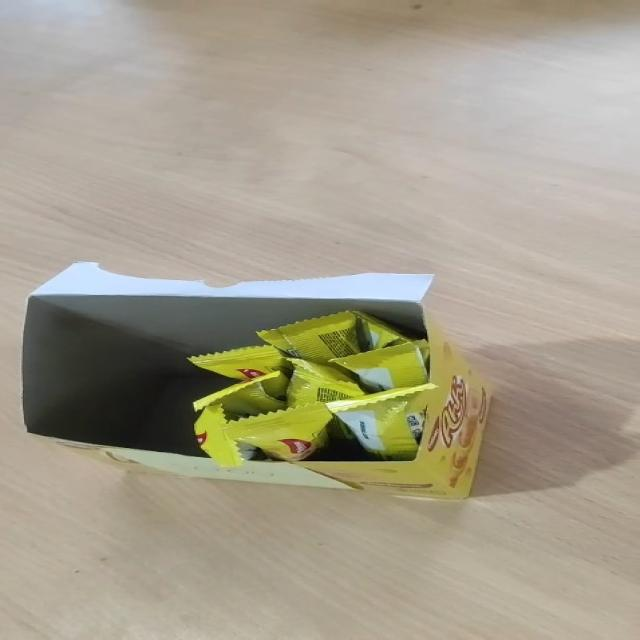Ahh: (326, 382, 436, 461), (226, 401, 335, 462), (256, 310, 363, 372), (328, 340, 430, 392), (188, 345, 290, 397), (352, 310, 430, 373), (191, 372, 288, 419), (284, 357, 365, 409), (194, 404, 245, 468)
